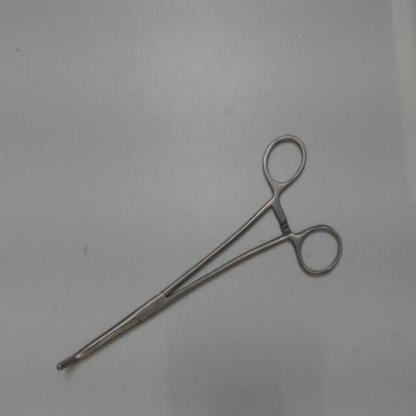Lahey Forceps: (49, 120, 345, 378)
